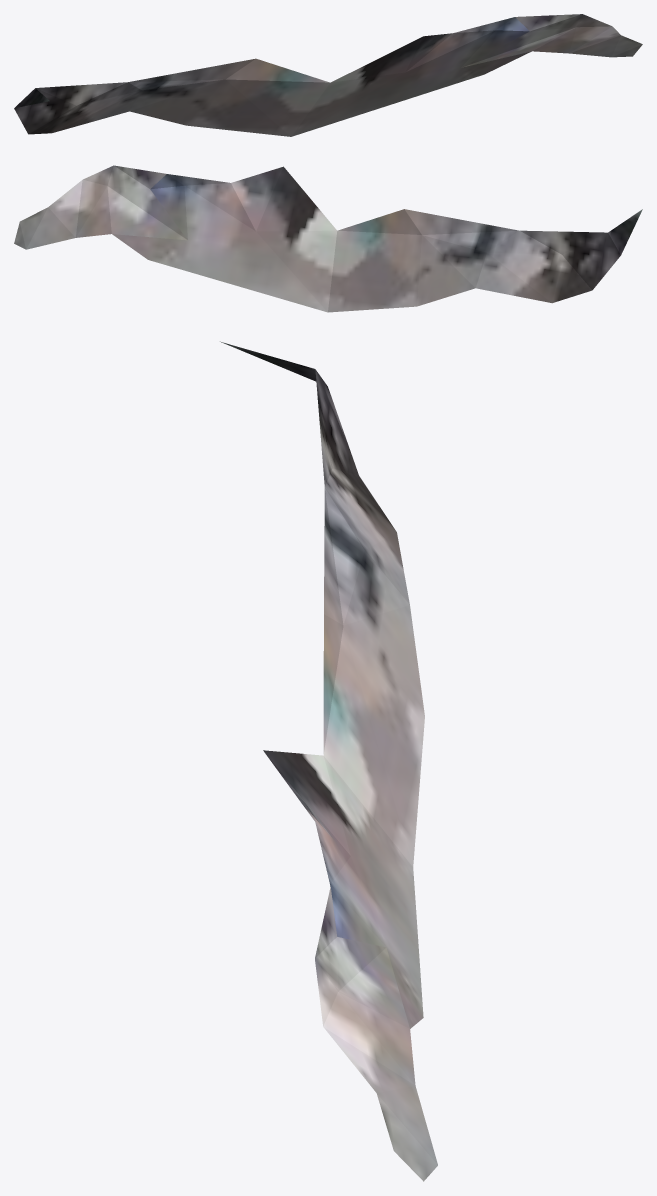
The model's file is meshes_1-dynamic - BLK2GO-3630355-Scan 080 49.obj.
The picture shows the model from 3 angles, top to bottom: view 1: azimuth 30°, elevation 25°; view 2: azimuth 150°, elevation 25°; view 3: azimuth 270°, elevation 25°; orthographic projection. The views are drawn at different scales.
Parts seen in each view (by area): view 1: 1-dynamic_-_BLK2GO-3630355-Scan_080_49_0; view 2: 1-dynamic_-_BLK2GO-3630355-Scan_080_49_0; view 3: 1-dynamic_-_BLK2GO-3630355-Scan_080_49_0.
Part boxes in pixels (left/top/right/bottom): 1-dynamic_-_BLK2GO-3630355-Scan_080_49_0: left=14, top=14, right=642, bottom=136; 1-dynamic_-_BLK2GO-3630355-Scan_080_49_0: left=14, top=165, right=642, bottom=312; 1-dynamic_-_BLK2GO-3630355-Scan_080_49_0: left=220, top=341, right=437, bottom=1181.
Bounding box in the file's own units: 1.69 × 0.3809 × 0.2739.
Materials: 1 (1 with a texture image).
